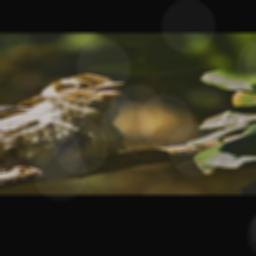Sparrow: (0, 74, 127, 173)
